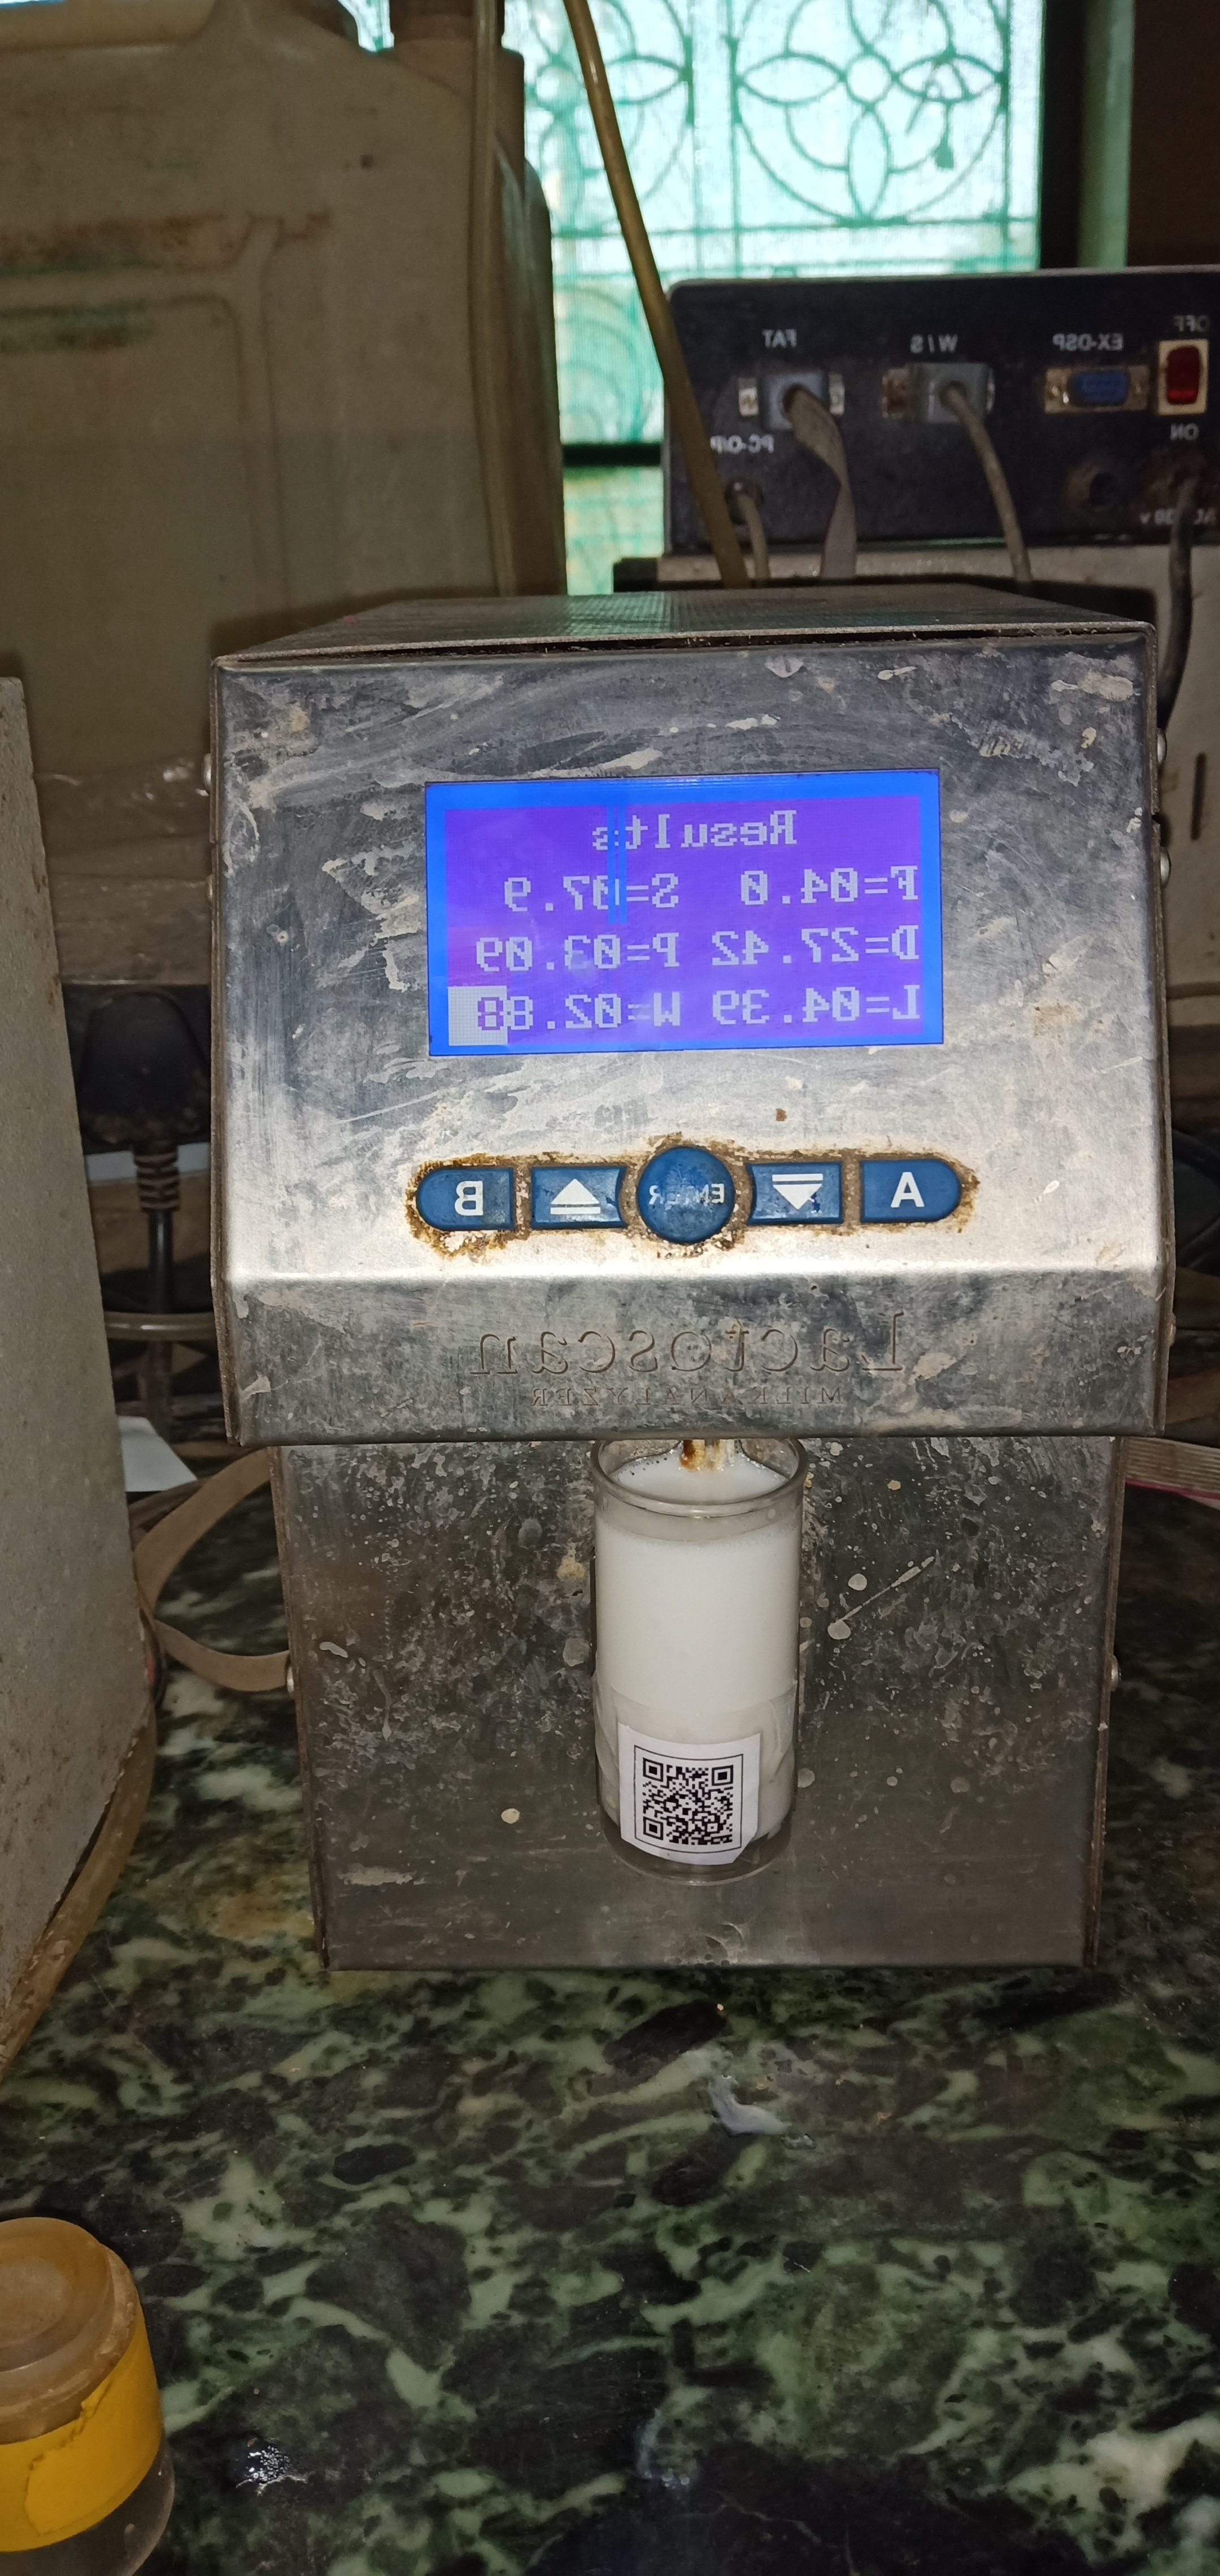lcd: (410, 764, 939, 1069)
qr: (604, 1723, 770, 1876)
